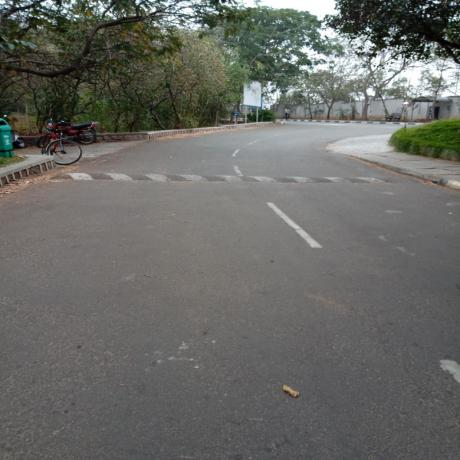Speed Bump: (51, 171, 404, 183)
